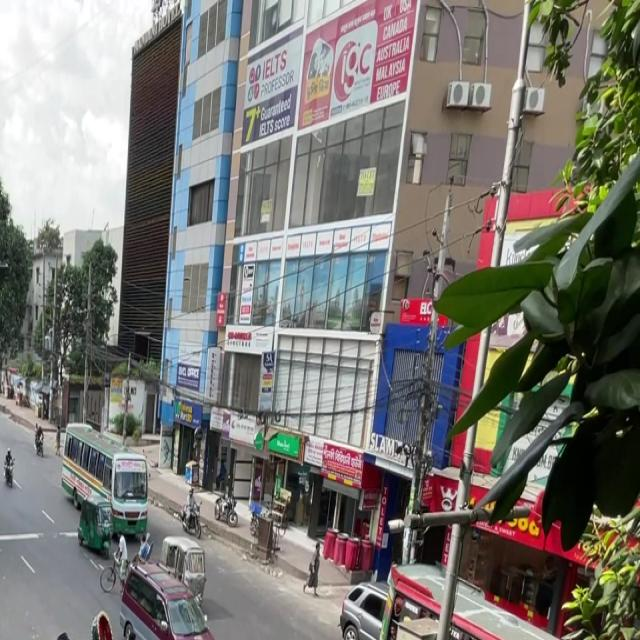bus: (56, 416, 156, 544)
car: (115, 559, 230, 640), (334, 574, 403, 640), (29, 414, 54, 455)
motorbike: (213, 490, 241, 530)
rickshaw: (155, 530, 211, 607), (0, 612, 17, 640)
